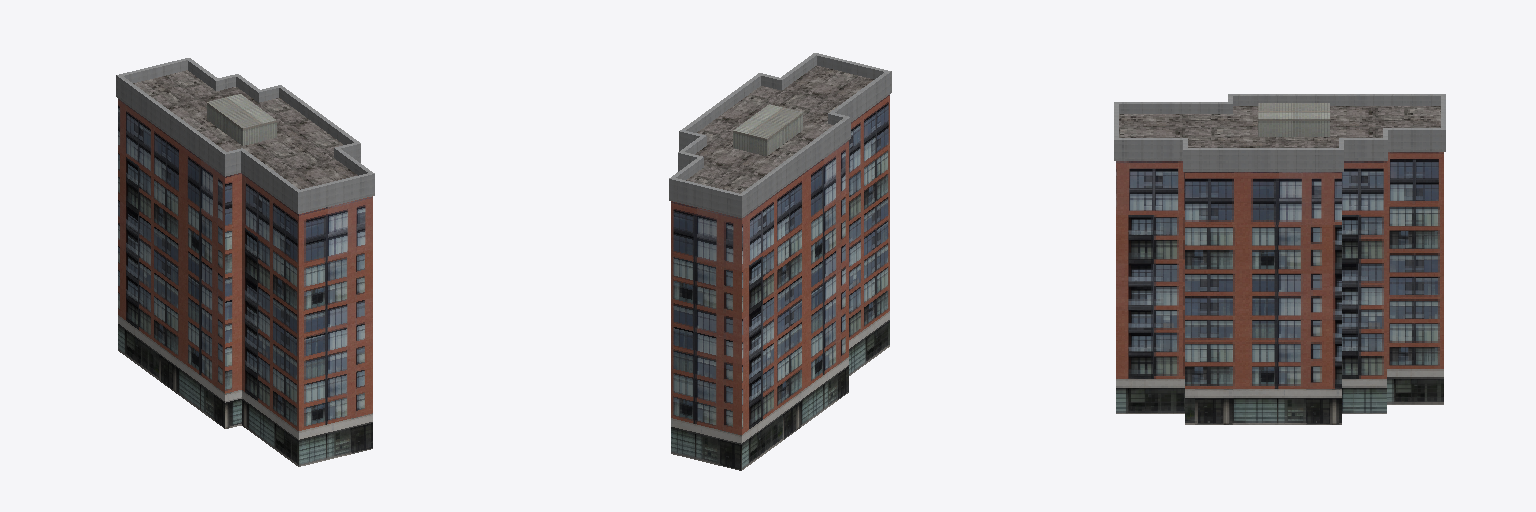
3 views of the same model, side by side, from view 1: azimuth 30°, elevation 25°; view 2: azimuth 150°, elevation 25°; view 3: azimuth 270°, elevation 25° (orthographic).
Parts seen in each view (by area): view 1: building_10; view 2: building_10; view 3: building_10.
Boxes of the visible parts, x1=… form: building_10: x1=116, y1=58, x2=374, y2=466; building_10: x1=669, y1=53, x2=891, y2=470; building_10: x1=1114, y1=94, x2=1445, y2=424.
Size of the model in its own units: 54.58 by 130 by 138.
Materials: 1 (1 with a texture image).